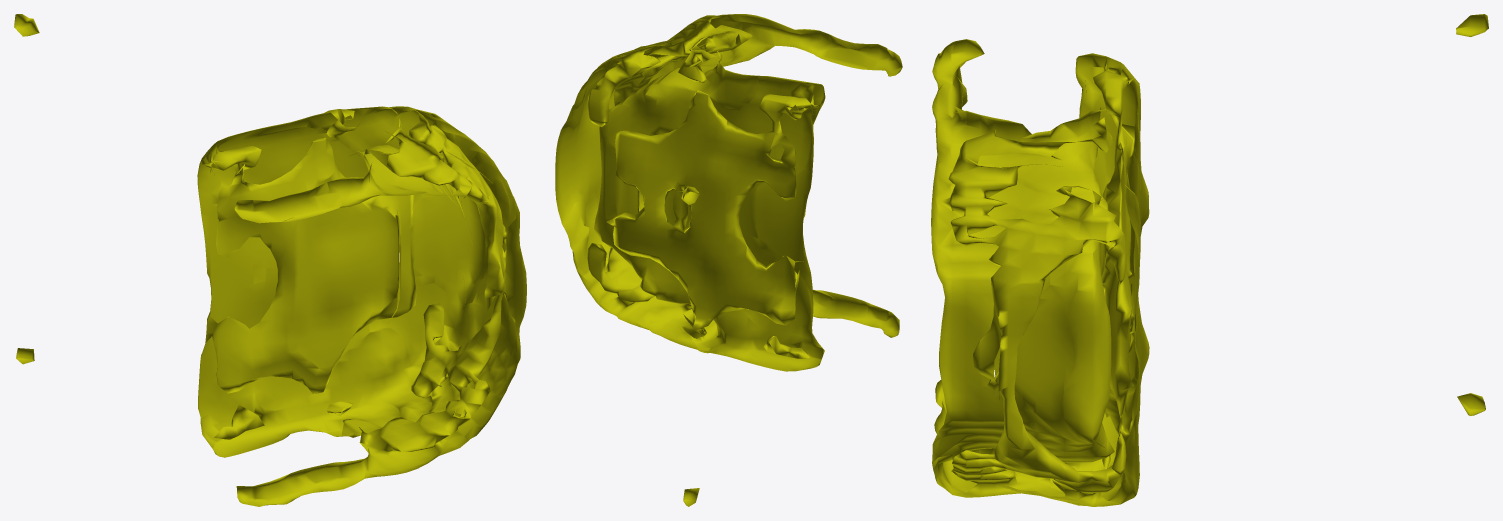
3 views of the same model, side by side, from view 1: azimuth 30°, elevation 25°; view 2: azimuth 150°, elevation 25°; view 3: azimuth 270°, elevation 25° (orthographic). The views are drawn at different scales.
Parts seen in each view (by area): view 1: world; view 2: world; view 3: world.
Part boxes in pixels (left/top/right/bottom): world: left=14, top=14, right=526, bottom=506; world: left=555, top=14, right=902, bottom=506; world: left=931, top=14, right=1488, bottom=506.
Bounding box in the file's own units: 29.34 × 31.29 × 39.82.
